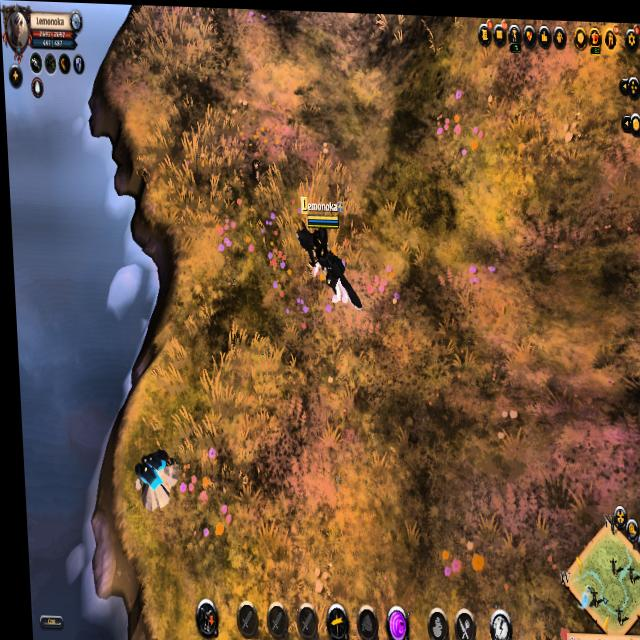ore tier 4: (127, 444, 178, 519)
